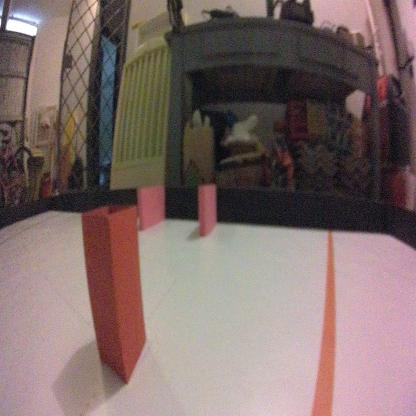magenta: (136, 181, 168, 232), (196, 182, 218, 238)
red: (79, 199, 150, 386)
